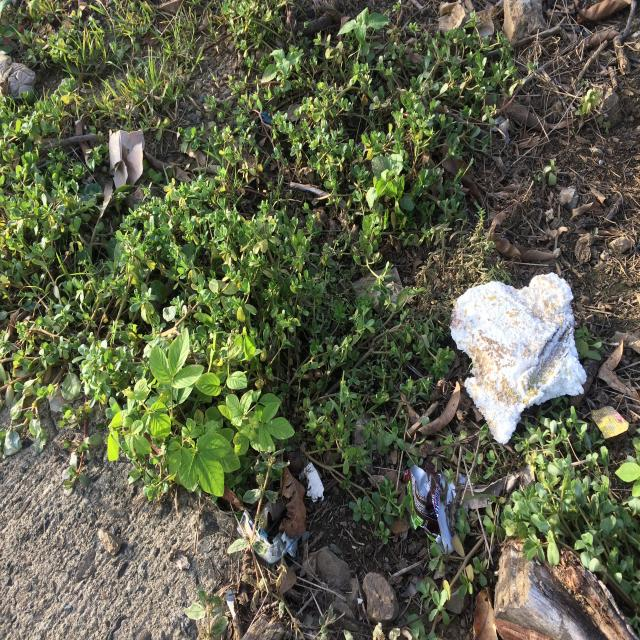litter: (446, 267, 587, 451), (407, 459, 468, 551), (101, 125, 145, 216)
